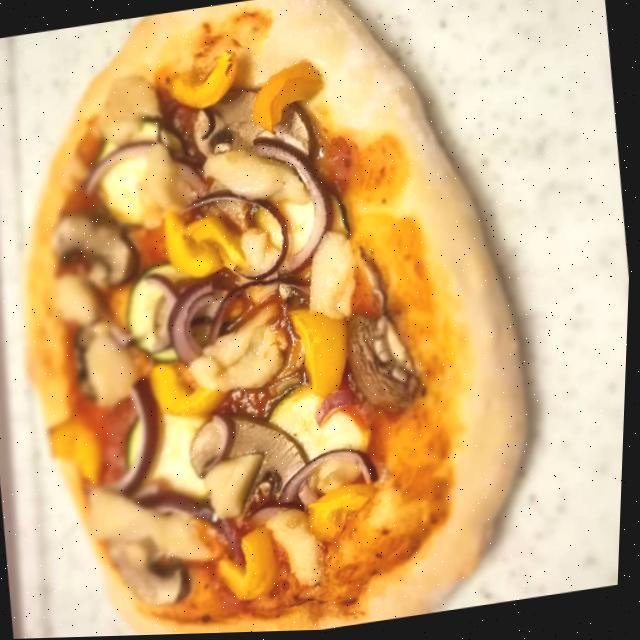mushrooms: (185, 403, 317, 518), (187, 75, 322, 179), (342, 307, 433, 421), (46, 207, 143, 297), (110, 531, 197, 617)
pizza: (0, 0, 571, 640)
